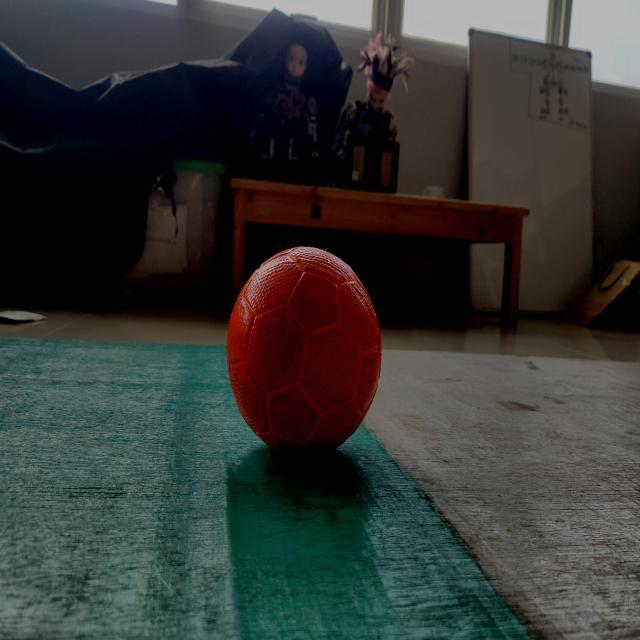bola: (210, 235, 407, 466)
